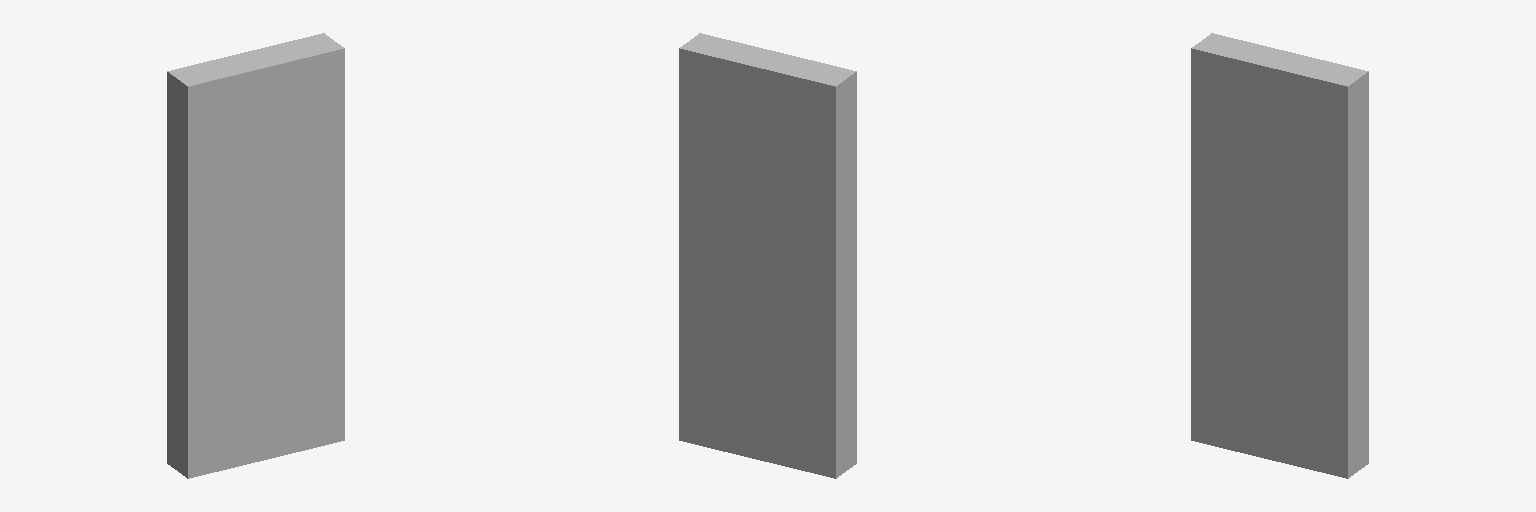
The model's file is Table.obj.
3 views of the same model, side by side, from view 1: azimuth 30°, elevation 25°; view 2: azimuth 150°, elevation 25°; view 3: azimuth 330°, elevation 25° (orthographic).
Visible parts, largest first — view 1: Table_Plane; view 2: Table_Plane; view 3: Table_Plane.
Part boxes in pixels (left/top/right/bottom): Table_Plane: left=167, top=33, right=344, bottom=478; Table_Plane: left=679, top=33, right=856, bottom=478; Table_Plane: left=1191, top=33, right=1368, bottom=478.
Size of the model in its own units: 4.39 by 10.5 by 1.02.